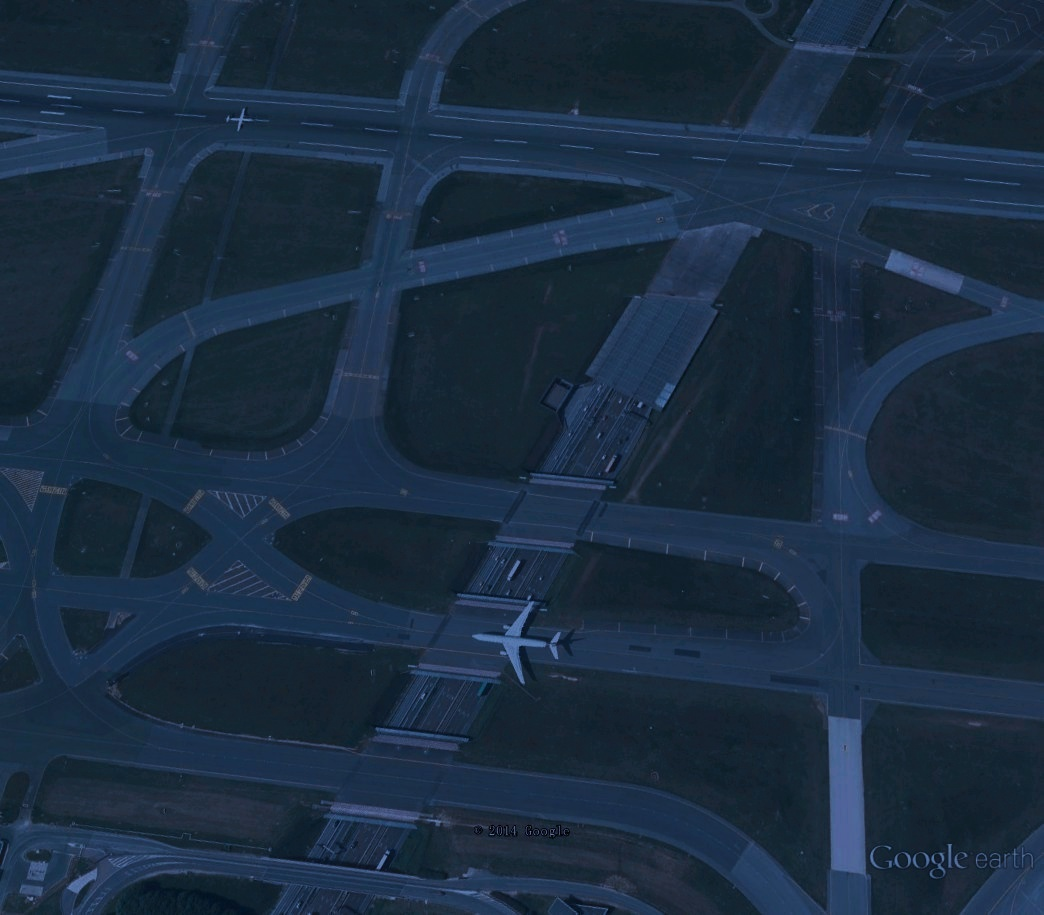aircraft: (466, 598, 570, 691), (223, 105, 259, 136)
